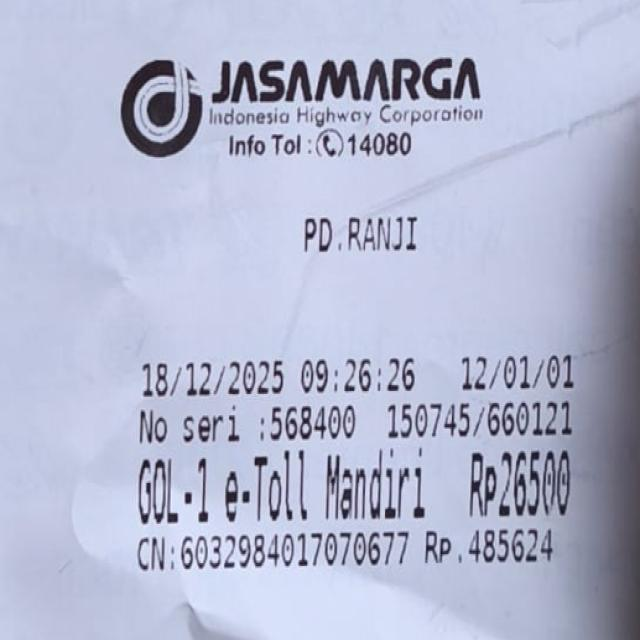date: (143, 354, 428, 397)
store: (212, 50, 484, 130)
total: (461, 449, 589, 526)
